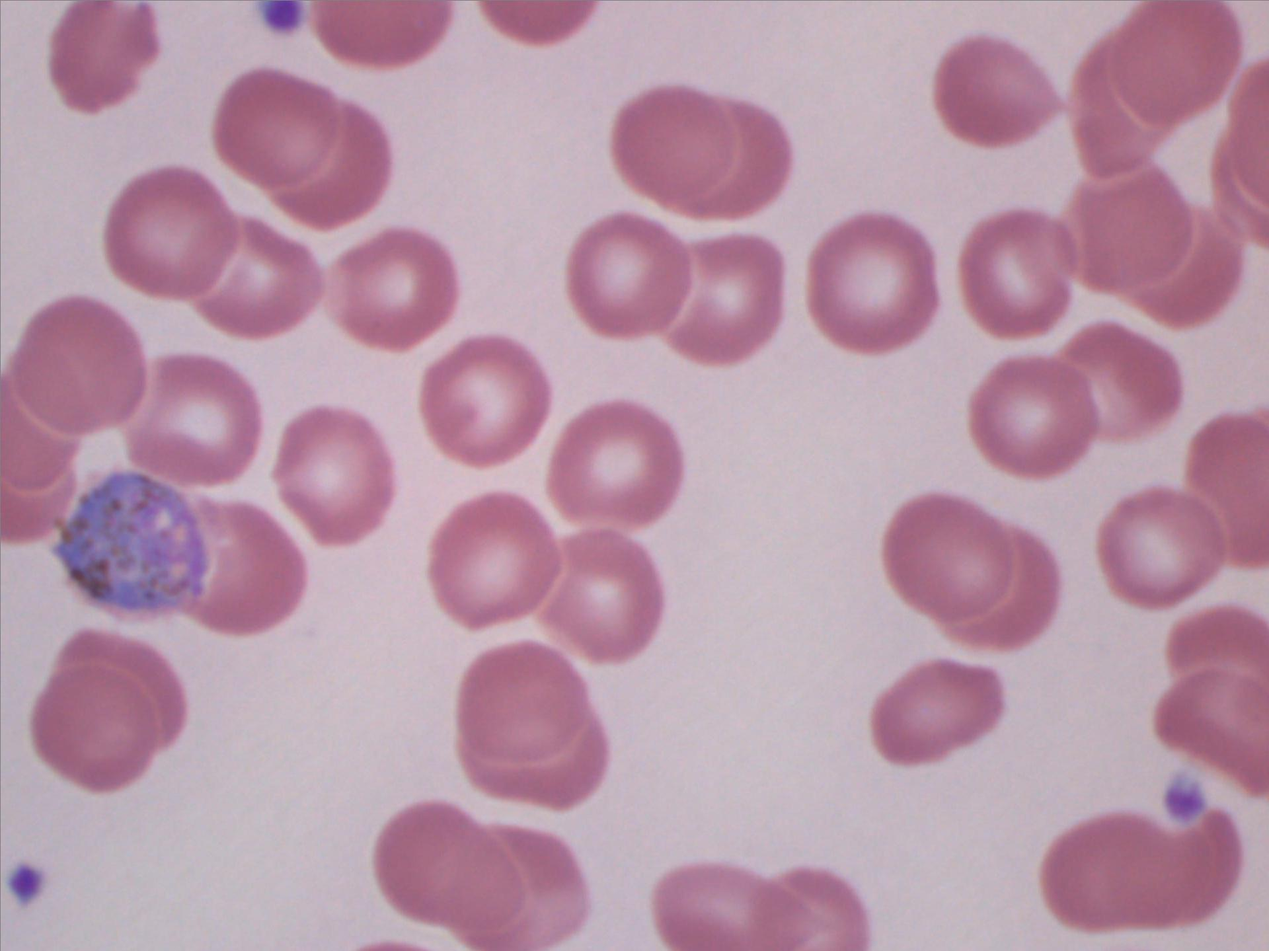Infected: (53, 473, 227, 620)
Uninfected: (1041, 812, 1247, 938), (372, 802, 526, 935), (106, 166, 245, 303), (810, 212, 939, 352), (426, 494, 560, 627), (180, 499, 308, 637), (13, 298, 144, 432), (1061, 172, 1198, 300), (276, 405, 397, 549), (30, 661, 161, 794), (416, 336, 551, 465), (544, 403, 682, 529), (884, 494, 1014, 625), (192, 215, 328, 340), (542, 531, 668, 664), (126, 357, 256, 485), (264, 101, 391, 232), (930, 35, 1072, 152), (565, 212, 693, 341), (648, 861, 830, 951), (1099, 481, 1227, 608), (659, 240, 787, 366), (972, 354, 1097, 481), (469, 823, 591, 951), (1122, 0, 1241, 131), (610, 86, 744, 202), (330, 232, 459, 352), (962, 212, 1080, 343), (461, 640, 591, 756), (867, 660, 1003, 767), (212, 70, 342, 181), (1072, 45, 1176, 183), (671, 104, 792, 221), (1157, 665, 1269, 789), (1066, 323, 1183, 438), (948, 532, 1058, 652), (1188, 413, 1269, 571), (51, 5, 163, 114), (1163, 610, 1269, 710), (312, 0, 452, 70)
